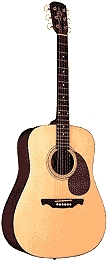guitar: (7, 2, 107, 255)
